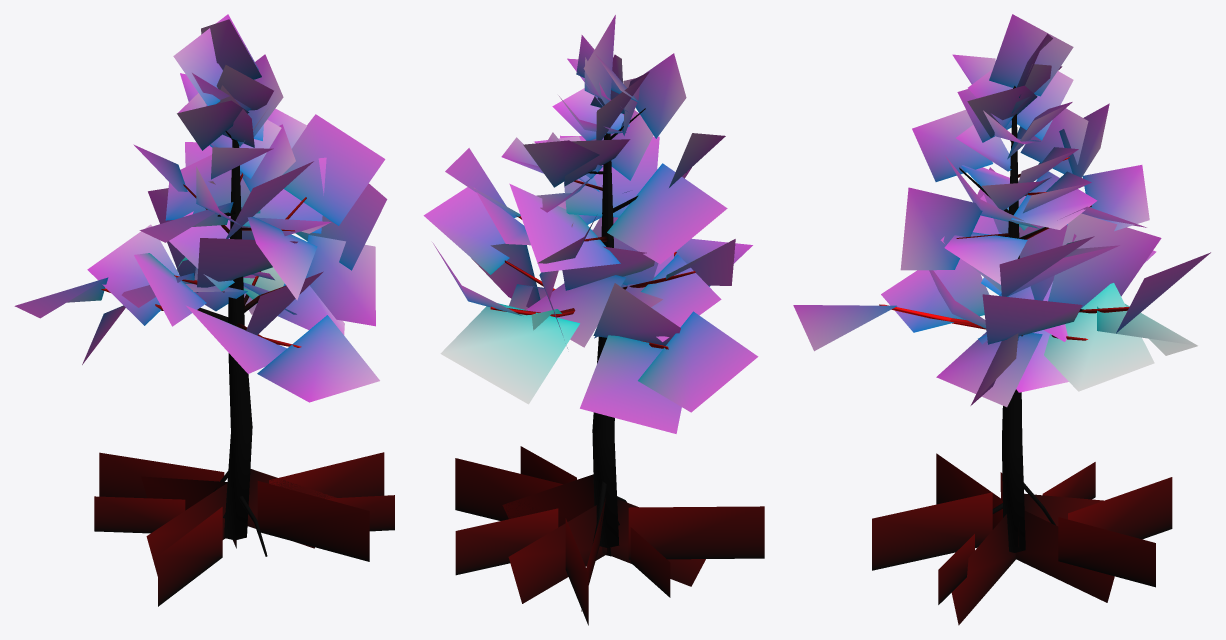
File: swamp_mangrove_a_256.fbx
3 renders of one model, left to right at view 1: azimuth 30°, elevation 25°; view 2: azimuth 150°, elevation 25°; view 3: azimuth 270°, elevation 25°, orthographic. The views are drawn at different scales.
Parts seen in each view (by area): view 1: leavesma256, treema256; view 2: leavesma256, treema256; view 3: leavesma256, treema256.
Part boxes in pixels (x1,y1,x2,y2): leavesma256: (14, 14, 394, 606); treema256: (101, 131, 306, 556); leavesma256: (423, 15, 764, 625); treema256: (490, 108, 695, 547); leavesma256: (793, 14, 1210, 625); treema256: (879, 86, 1129, 552).
Size of what is drawn, in the model's own units: 7.34 by 12.54 by 8.13.
